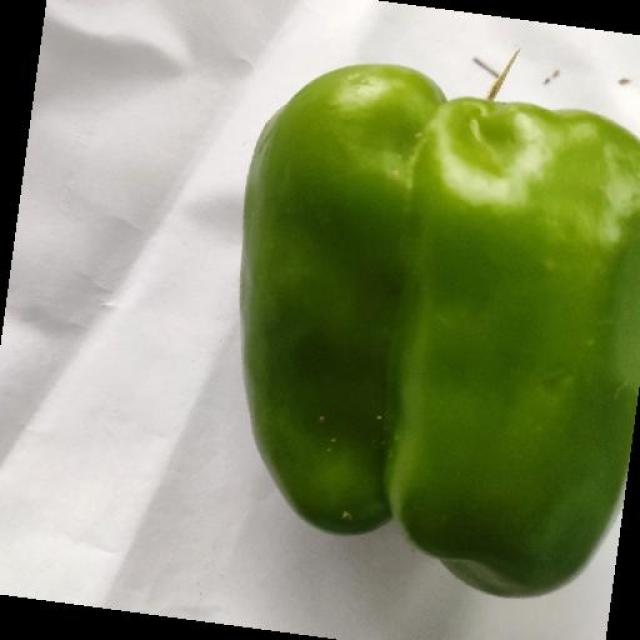Fresh_Capsicum: (256, 51, 640, 587)
